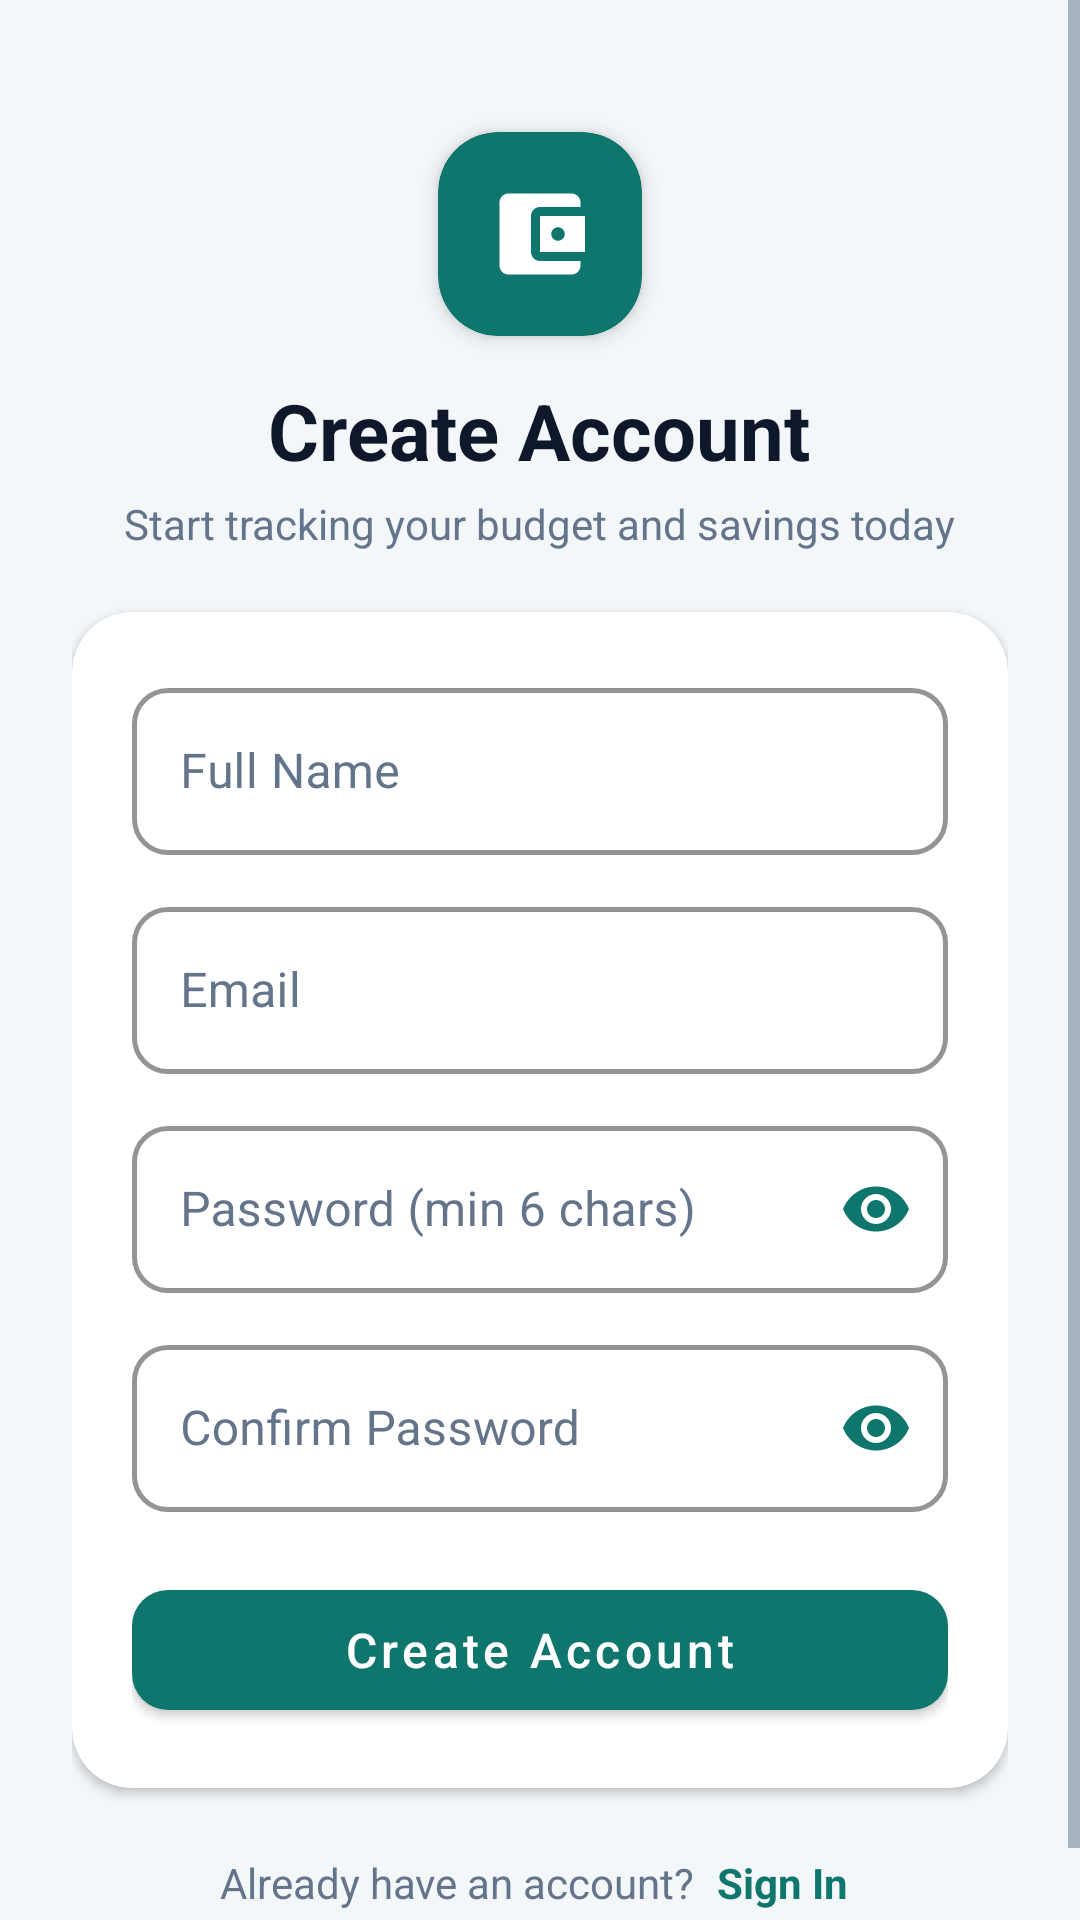

Named icons in this screenshot (1080*1920) and their bounding boxes, (x1,y1,x2,y2):
wallet: (499,193,585,275)
